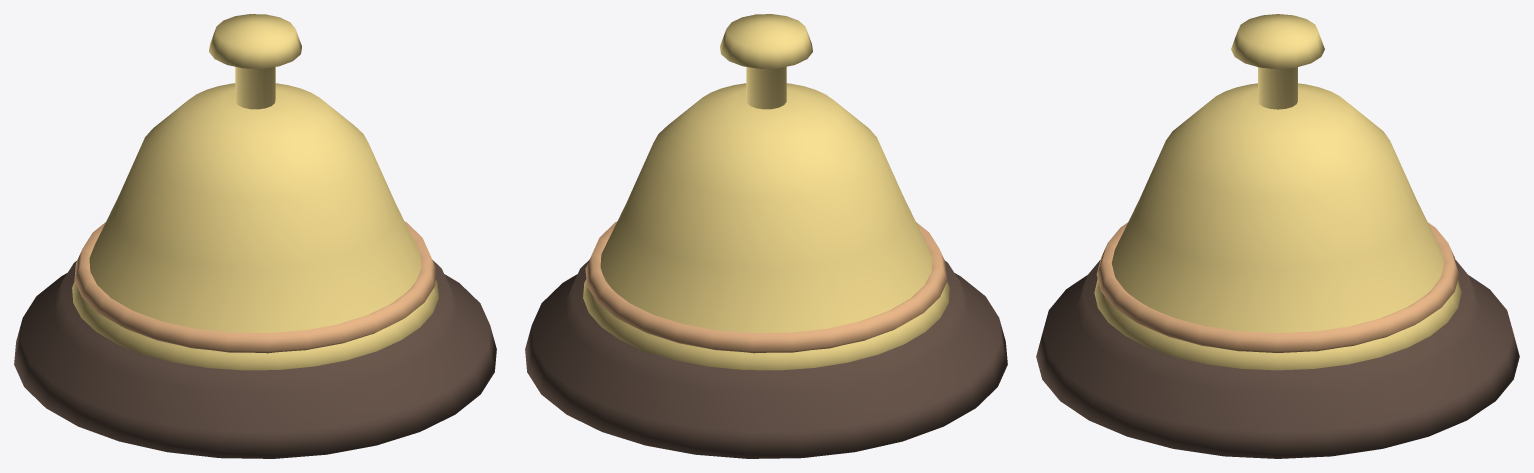
Rendered from shop_bell.glb.
3 renders of one model, left to right at view 1: azimuth 30°, elevation 25°; view 2: azimuth 150°, elevation 25°; view 3: azimuth 270°, elevation 25°, orthographic.
Parts seen in each view (by area): view 1: BellDome, BellPlinth, BellCopperTrim, BellPlunger; view 2: BellDome, BellPlinth, BellCopperTrim, BellPlunger; view 3: BellDome, BellPlinth, BellCopperTrim, BellPlunger.
Boxes of the visible parts, left/top/right/bottom form: BellDome: left=72, top=83, right=438, bottom=370; BellPlinth: left=14, top=260, right=496, bottom=458; BellCopperTrim: left=74, top=221, right=436, bottom=353; BellPlunger: left=209, top=14, right=301, bottom=109; BellDome: left=583, top=83, right=949, bottom=370; BellPlinth: left=525, top=260, right=1007, bottom=458; BellCopperTrim: left=585, top=221, right=947, bottom=353; BellPlunger: left=720, top=14, right=812, bottom=109; BellDome: left=1094, top=83, right=1461, bottom=370; BellPlinth: left=1036, top=260, right=1519, bottom=458; BellCopperTrim: left=1096, top=222, right=1459, bottom=352; BellPlunger: left=1231, top=14, right=1324, bottom=109.
Bounding box in the file's own units: 0.144 × 0.109 × 0.144.
